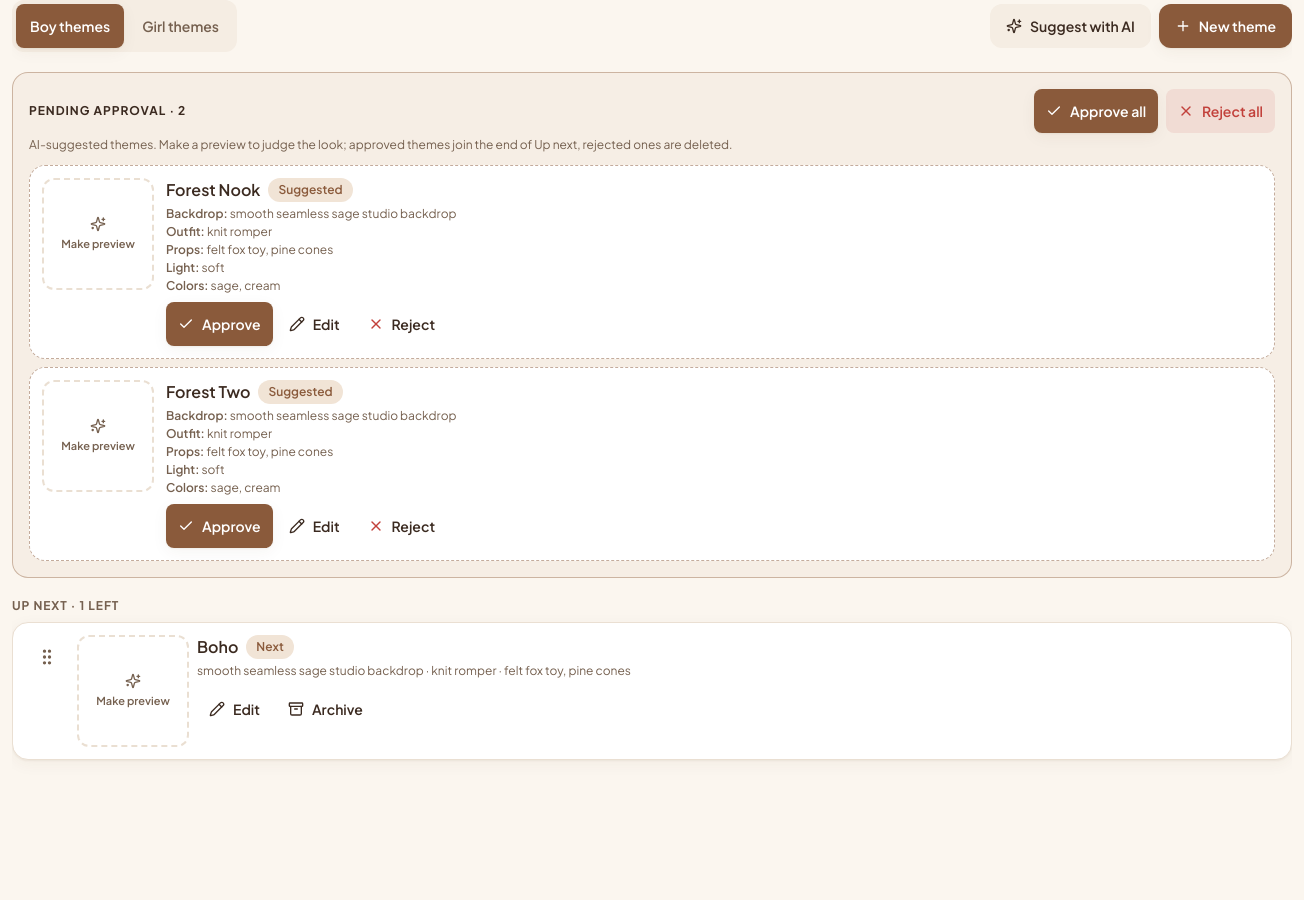
Bulk approve/reject that fails part-way › themes: approved ones stay in Up next, the rest return to Pending
Click the button "Approve all" at (1096, 111), box [1034, 89, 1158, 133]
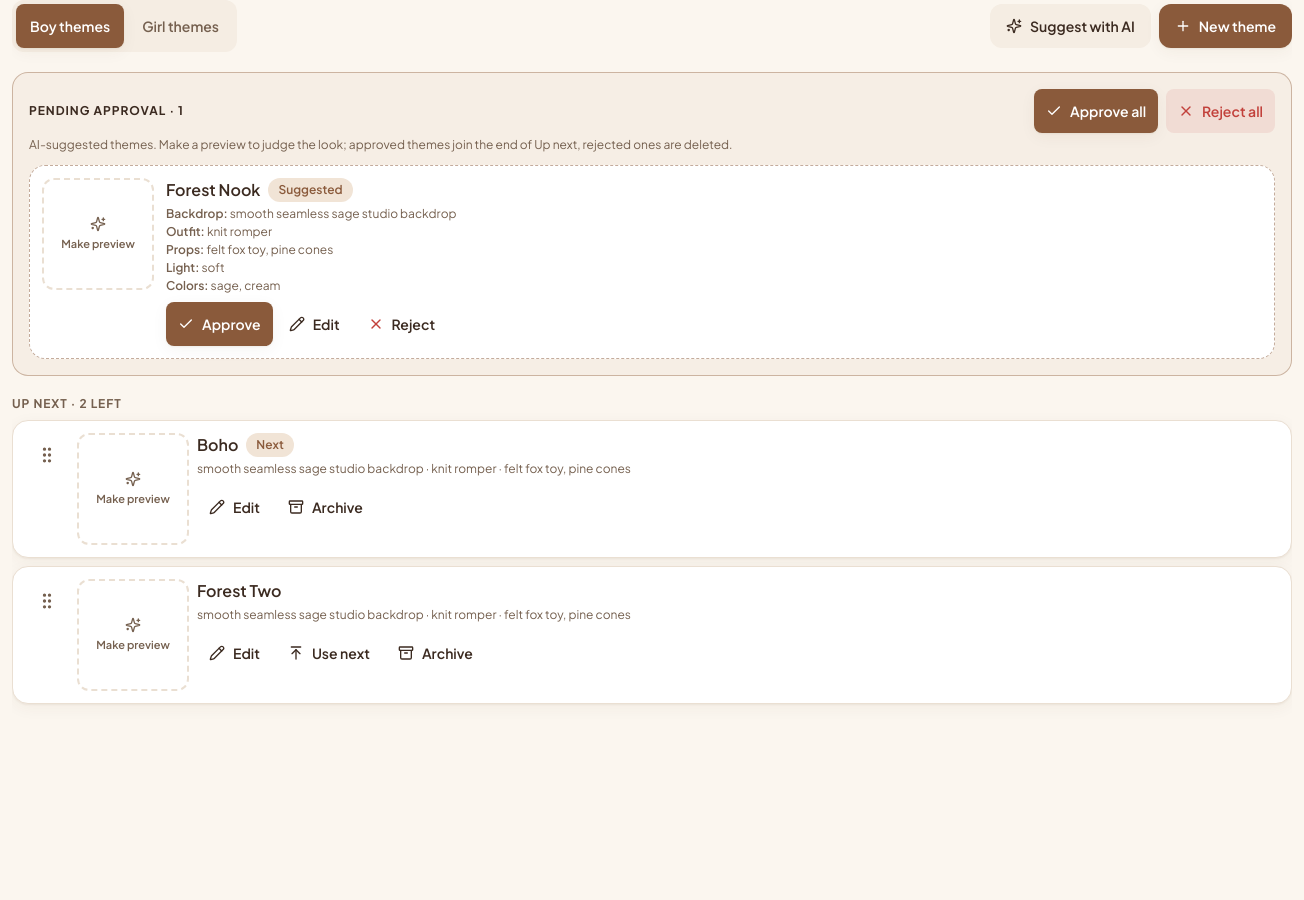
Expected: the text "Forest Nook" is shown, [166, 178, 260, 202]
Now the element "Pending approval · 1" is shown, box [12, 72, 1292, 376]
